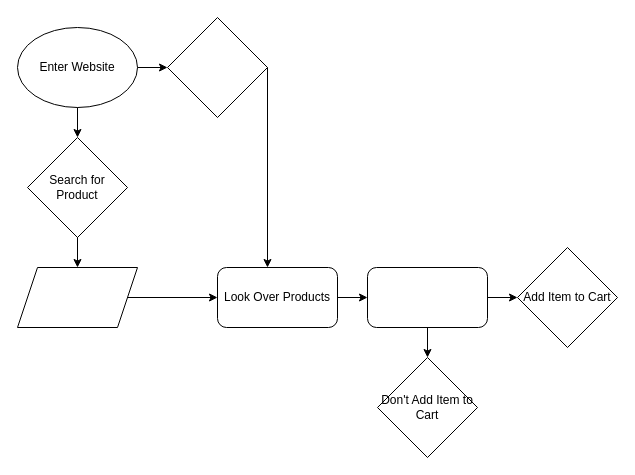
Some shapes in this 635 by 475 pixel diagram are drawn without their labels. Here are the shapes that lost their labels. From the top down, the centre of each, then its label:
At pixel 217 67: "Explore Home Page".
At pixel 77 297: "Search Input".
At pixel 427 297: "View Specific Product".
